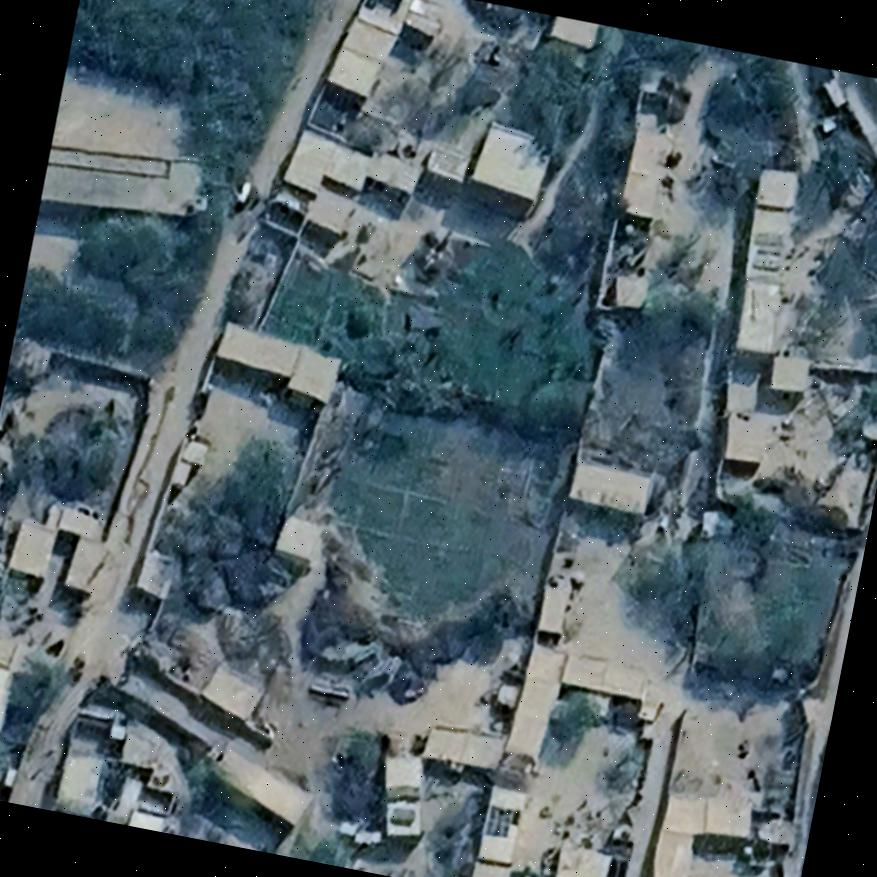Solarpanel: (480, 804, 511, 838), (386, 804, 414, 821), (753, 250, 777, 268), (752, 230, 782, 244)
